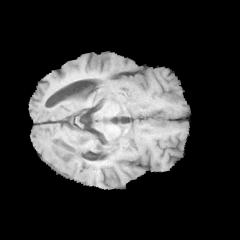glioma: (40, 140, 98, 179)
